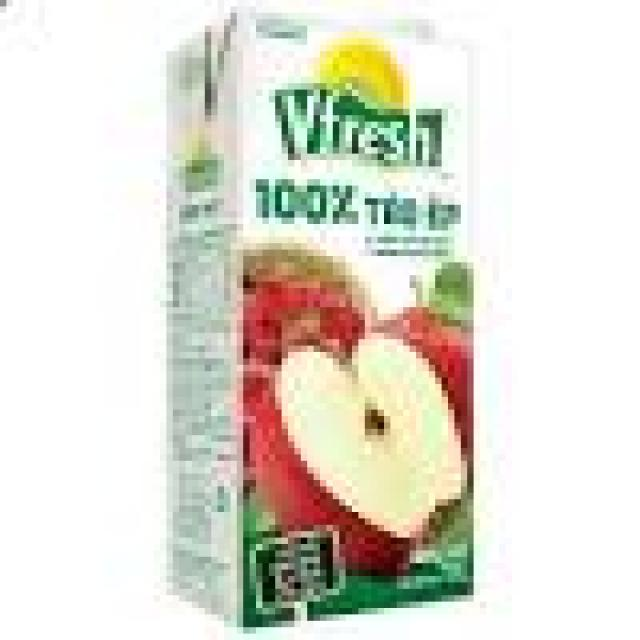non_white_jug: (170, 0, 502, 634)
